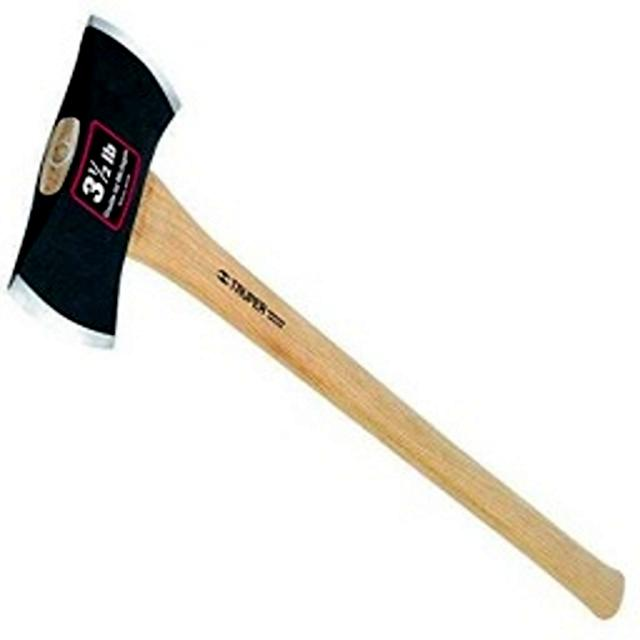ax: (1, 7, 634, 631)
